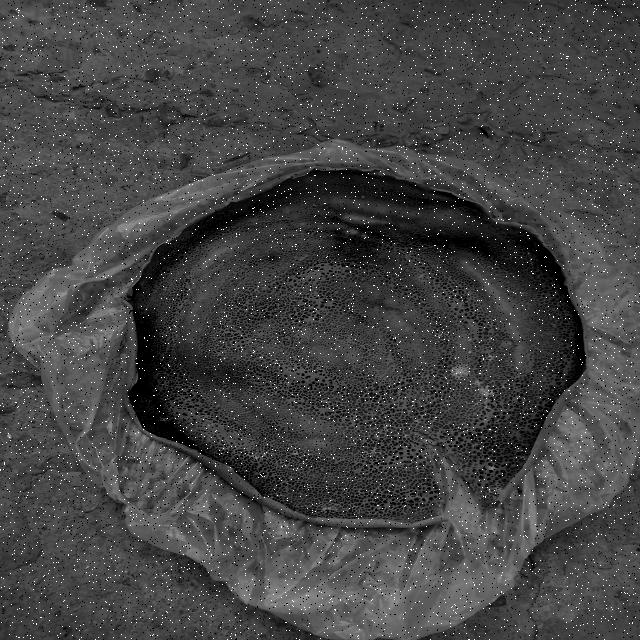injera_mold: (464, 381, 506, 424), (484, 479, 507, 503), (507, 444, 532, 464), (311, 497, 344, 512), (446, 365, 472, 379), (524, 248, 541, 267), (358, 447, 382, 458), (379, 424, 399, 436), (433, 332, 457, 342), (373, 505, 397, 514), (483, 463, 500, 473), (248, 454, 266, 463), (416, 274, 429, 284), (157, 379, 173, 387), (158, 416, 172, 424), (292, 501, 305, 509), (341, 488, 351, 498), (273, 460, 284, 469), (485, 354, 496, 362), (352, 509, 366, 515), (520, 291, 531, 298), (292, 451, 302, 458), (159, 286, 170, 292), (278, 382, 289, 388), (465, 349, 475, 355), (268, 392, 277, 398), (261, 439, 268, 446), (402, 433, 410, 439), (417, 492, 425, 497), (312, 203, 319, 208), (306, 485, 312, 490), (246, 388, 251, 394), (360, 195, 367, 199), (339, 514, 346, 518), (468, 338, 474, 342)
